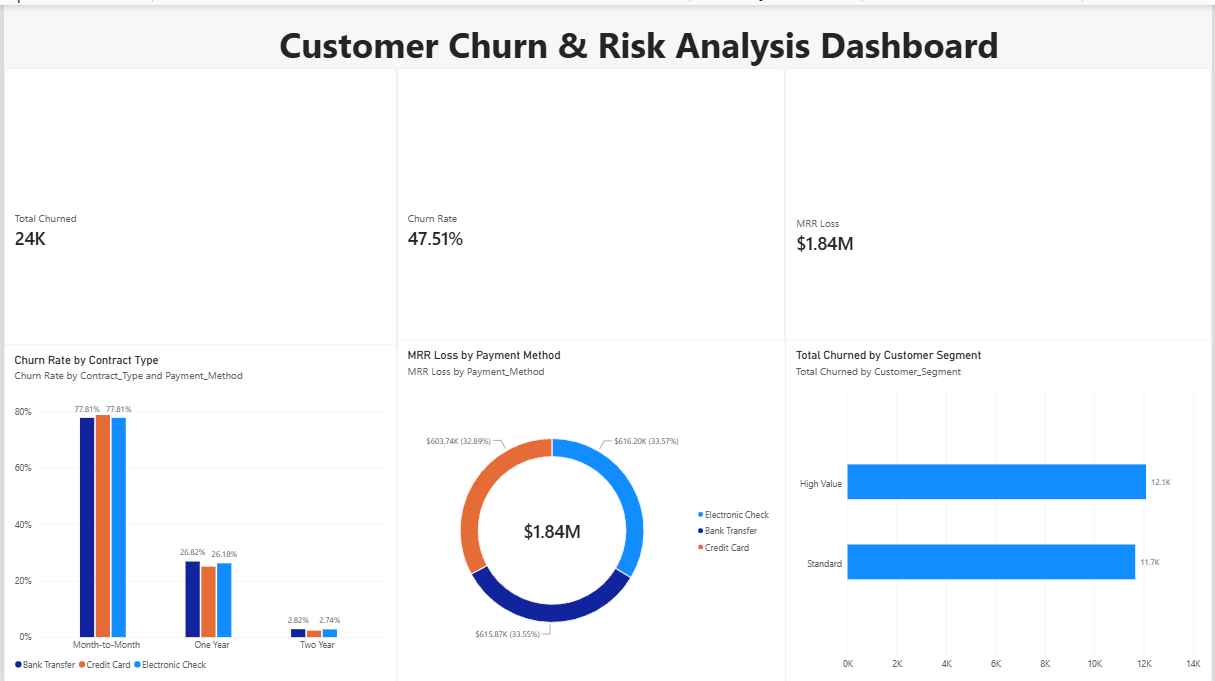

Layout of this report page (visuals, bound fields, positions):
{"tool":"powerbi","page":{"name":"Page 1","canvas":[1920,1080],"ordinal":0},"visuals":[{"type":"cardVisual","fields":{"Data":["cleaned_customer_churn.Total Churned"]},"box":[0,100.2,625.1,517.7],"z":0},{"type":"cardVisual","fields":{"Data":["cleaned_customer_churn.Churn Rate"]},"box":[625.1,100.2,618,517.7],"z":1},{"type":"cardVisual","fields":{"Data":["cleaned_customer_churn.MRR Loss"]},"box":[1243.1,100.2,677.6,532.1],"z":2},{"type":"clusteredColumnChart","title":"Churn Rate by Contract Type","fields":{"Category":["cleaned_customer_churn.Contract_Type"],"Series":["cleaned_customer_churn.Payment_Method"],"Y":["cleaned_customer_churn.Churn Rate"]},"box":[0,539.2,625.1,541.6],"z":3},{"type":"donutChart","title":"MRR Loss by Payment Method","fields":{"Category":["cleaned_customer_churn.Payment_Method"],"Y":["cleaned_customer_churn.MRR Loss"]},"box":[625.1,532.1,618,548.8],"z":4},{"type":"clusteredBarChart","title":"Total Churned by Customer Segment","fields":{"Category":["cleaned_customer_churn.Customer_Segment"],"Y":["cleaned_customer_churn.Total Churned"]},"box":[1243.1,532.1,677.6,548.8],"z":5},{"type":"textbox","box":[100,100,300,300],"z":6},{"type":"textbox","box":[100.2,23.9,1820.5,121.7],"z":7}]}

Visuals, with their boxes in screenshot pixels (x1, y1, x2, y2), scaled from the page's 1920x1080 canvas onto the 1215x681 screenshot:
cardVisual - cleaned_customer_churn.Total Churned: bbox(0, 63, 396, 390)
cardVisual - cleaned_customer_churn.Churn Rate: bbox(396, 63, 787, 390)
cardVisual - cleaned_customer_churn.MRR Loss: bbox(787, 63, 1214, 399)
"Churn Rate by Contract Type" clusteredColumnChart: bbox(0, 340, 396, 680)
"MRR Loss by Payment Method" donutChart: bbox(396, 336, 787, 680)
"Total Churned by Customer Segment" clusteredBarChart: bbox(787, 336, 1214, 680)
textbox: bbox(63, 63, 253, 252)
textbox: bbox(63, 15, 1214, 92)
